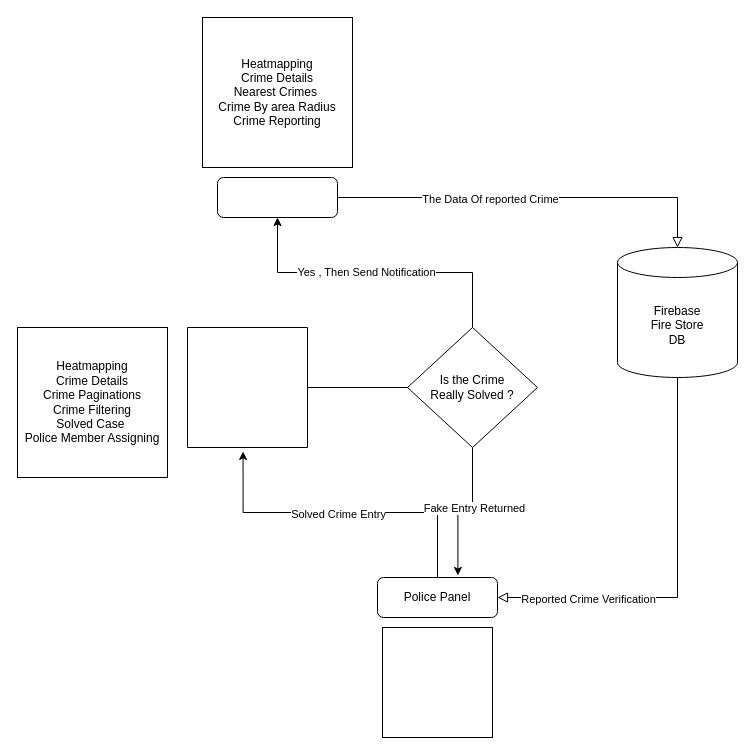
Some shapes in this 755 by 755 pixel diagram are drawn without their labels. Each missing label, with the centre of its shape:
"Admin Panel" belongs at (x=247, y=387).
"Android Client" belongs at (x=277, y=197).
"Heatmapping Crime Details Crime Paginations Crime Filtering" belongs at (x=437, y=682).
